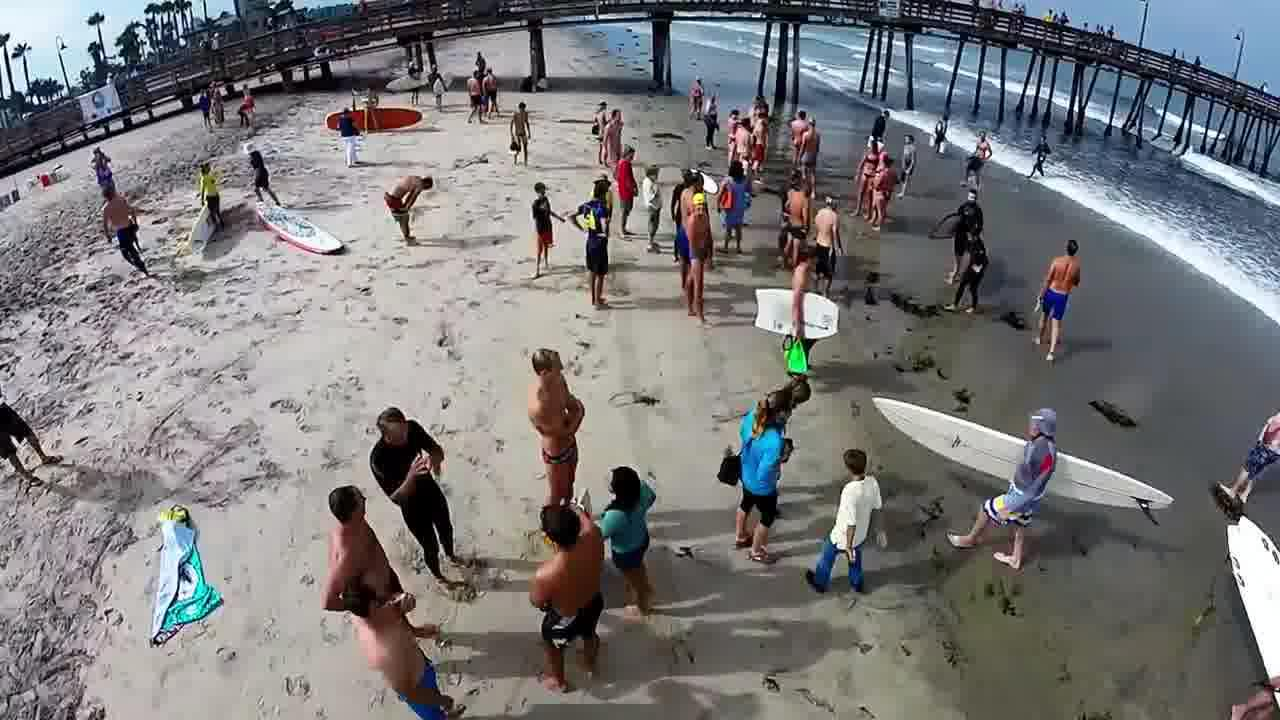swimmer: (1030, 126, 1052, 181)
